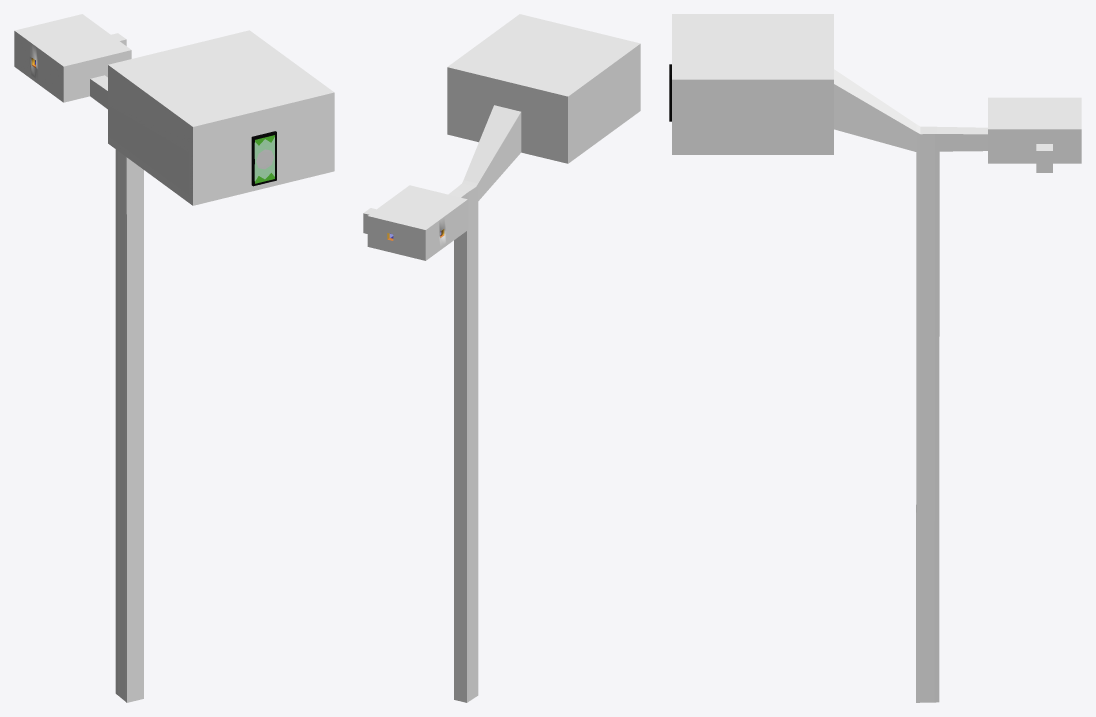
File: Hub world.fbx
3 views of the same model, side by side, from view 1: azimuth 30°, elevation 25°; view 2: azimuth 150°, elevation 25°; view 3: azimuth 270°, elevation 25° (orthographic). The views are drawn at different scales.
Visible parts, largest first — view 1: Cube.000, Island Portal; view 2: Cube.000; view 3: Cube.000.
Boxes of the visible parts, x1=… form: Cube.000: x1=14, y1=14, x2=334, y2=702; Island Portal: x1=251, y1=131, x2=276, y2=186; Cube.000: x1=363, y1=14, x2=640, y2=702; Cube.000: x1=672, y1=14, x2=1081, y2=702.
Bounding box in the file's own units: 4656 × 21515 × 12337.
